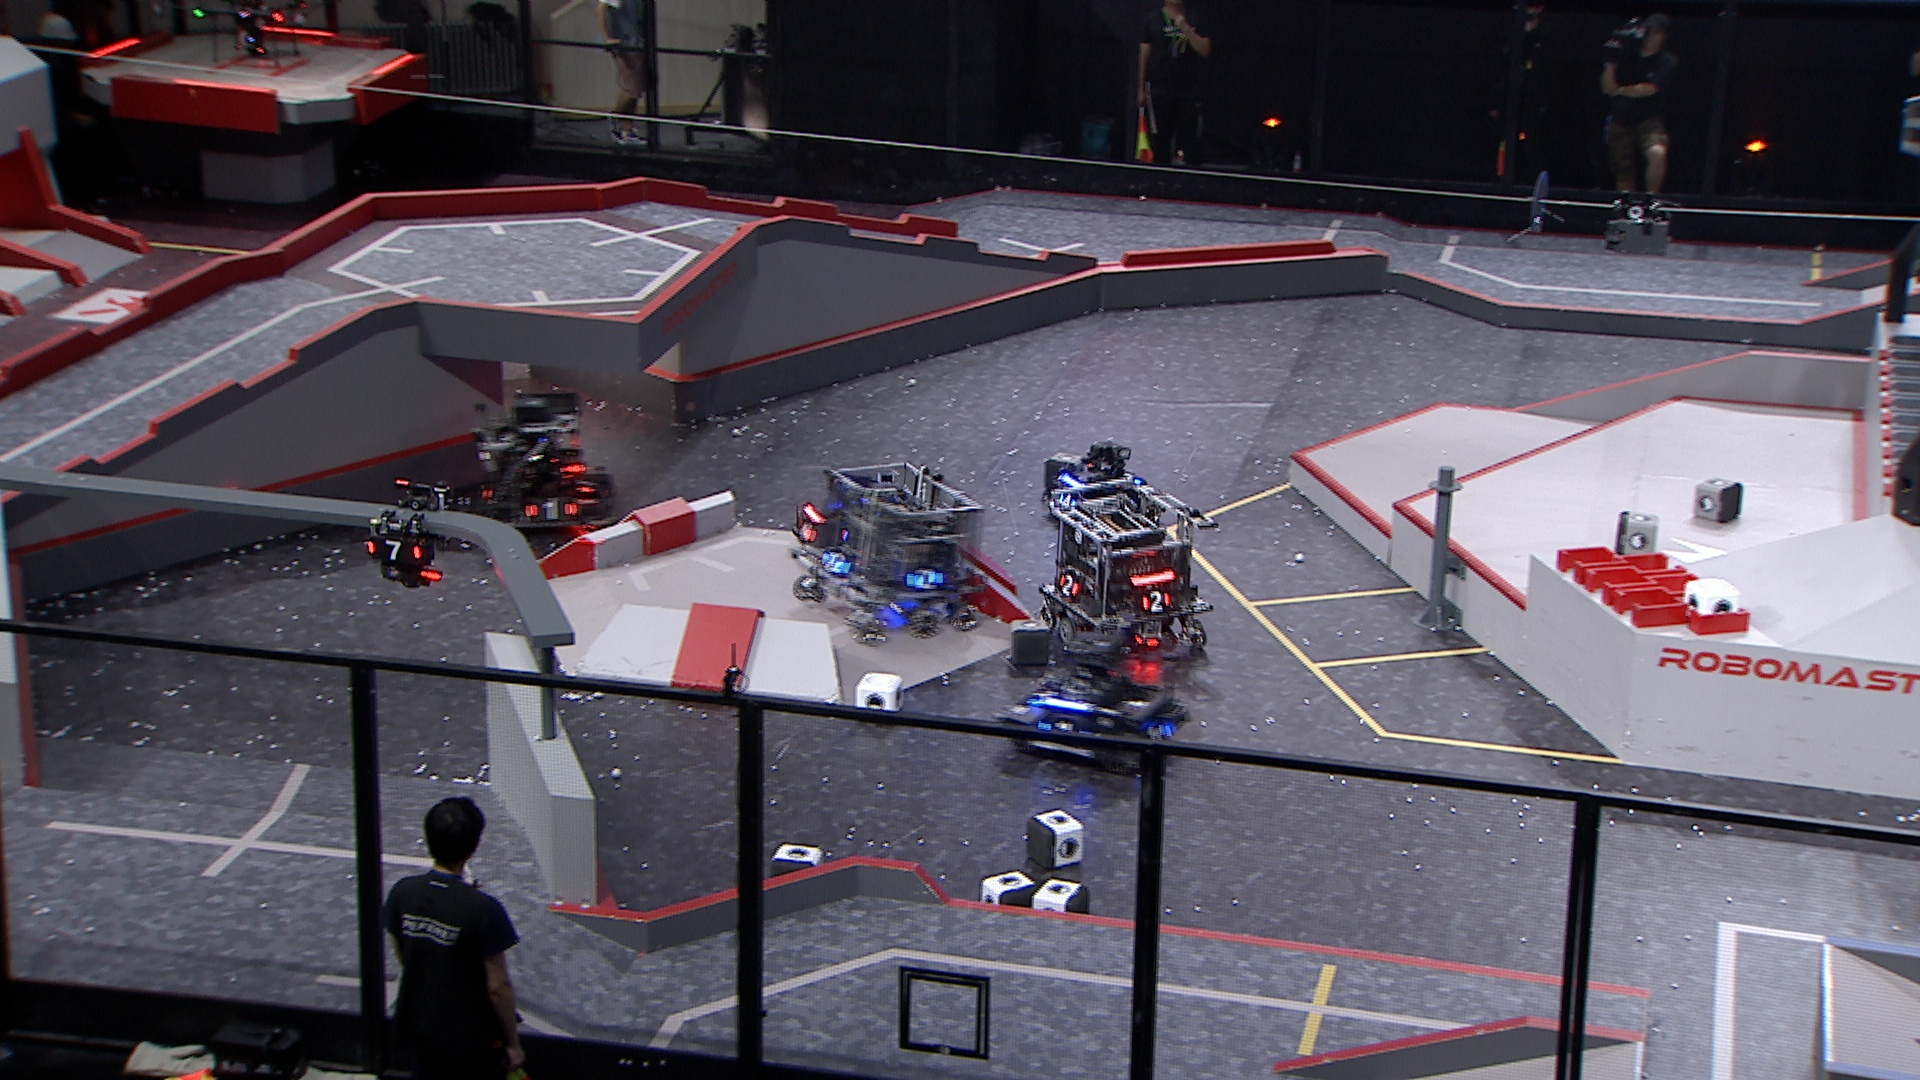armor: (363, 538, 423, 564), (524, 498, 579, 522), (906, 564, 948, 591), (818, 550, 855, 578), (1025, 684, 1062, 709), (1138, 591, 1171, 617), (1139, 721, 1179, 741), (1058, 571, 1083, 599), (575, 473, 600, 498)
car: (789, 460, 988, 642), (986, 628, 1193, 785), (1036, 476, 1215, 655), (472, 396, 617, 535), (1038, 439, 1150, 522)
watcher: (359, 479, 452, 588)
